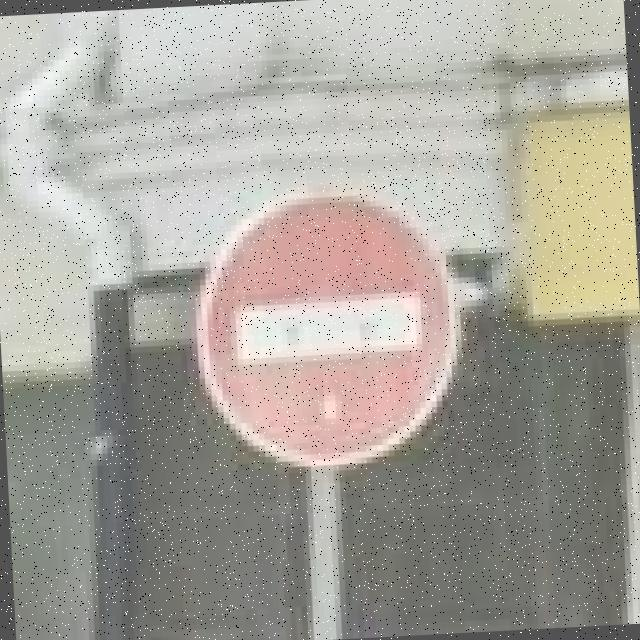Zakaz wjazdu: (190, 179, 468, 477)
